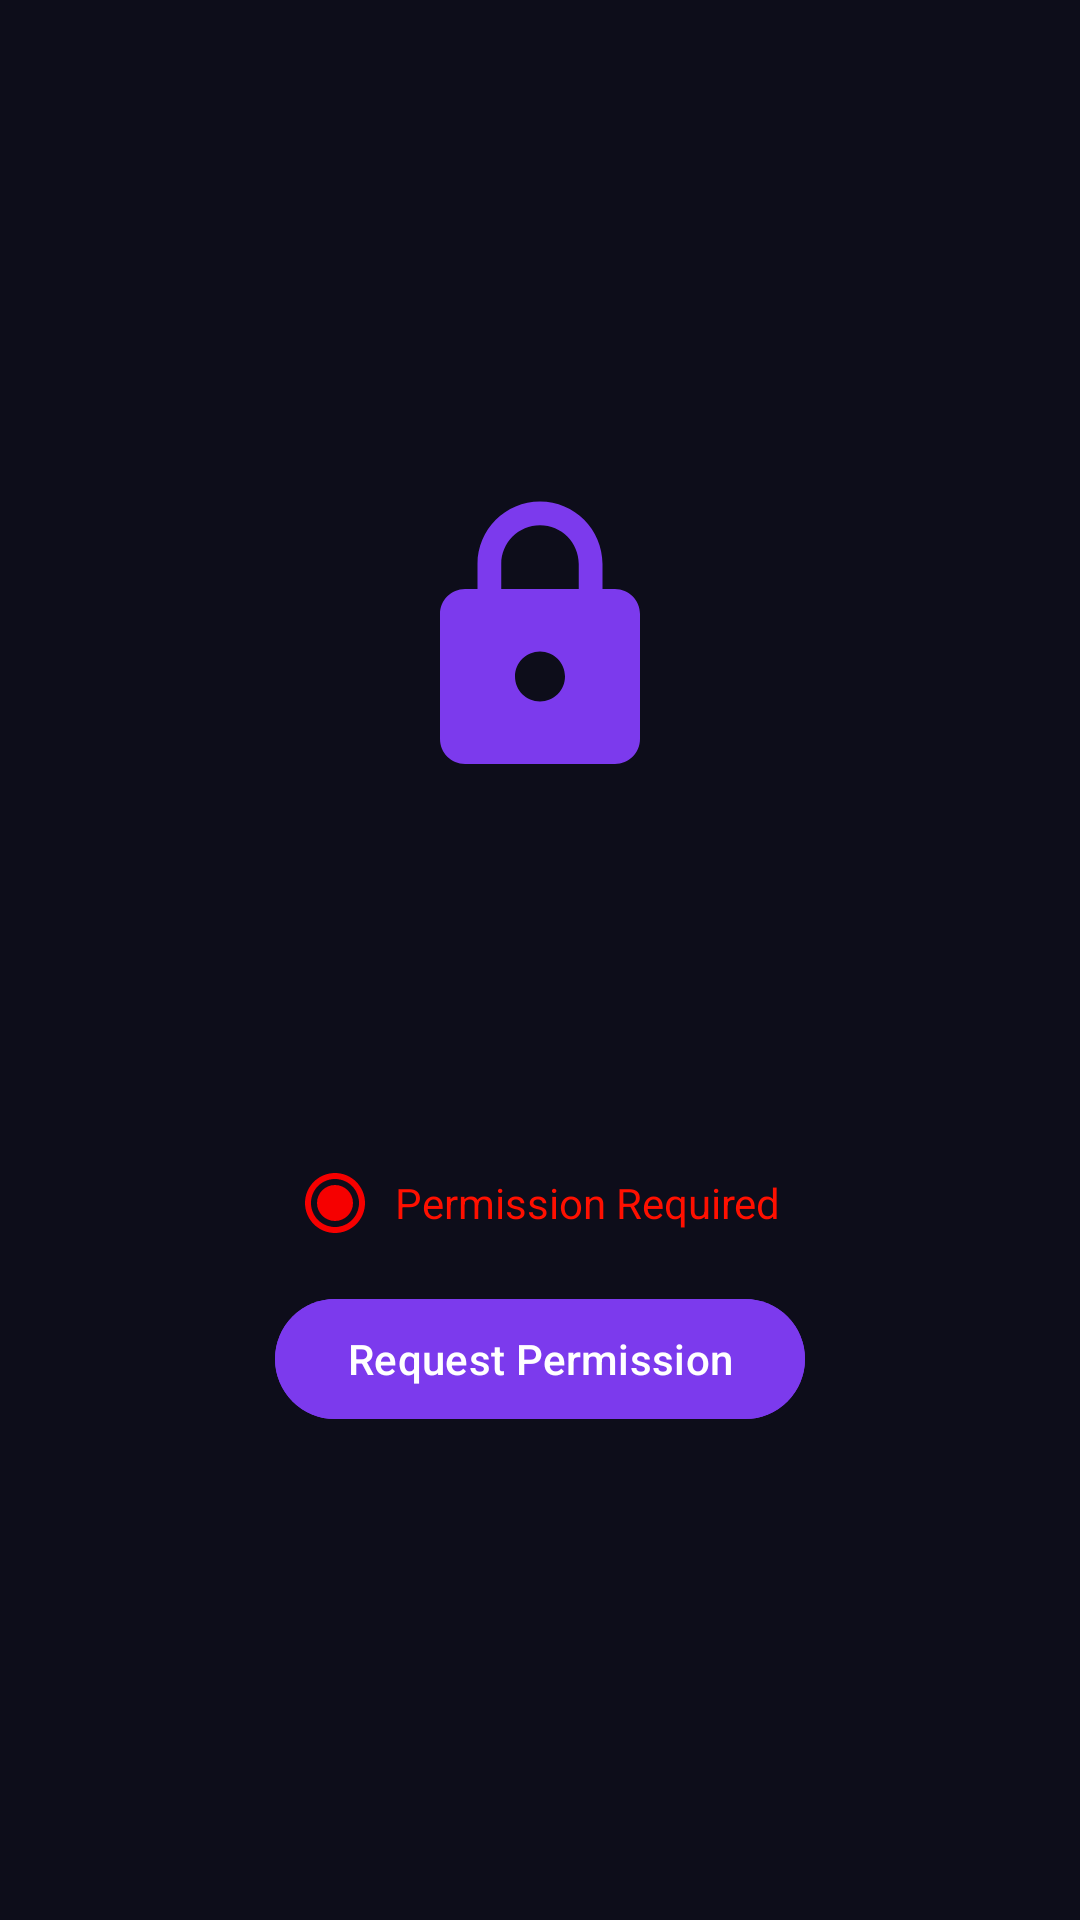

Screen size 1080w x 1920h. Icon name, then its box in pixels as (x1, y1, x2, y2):
permission: (440, 501, 640, 764)
